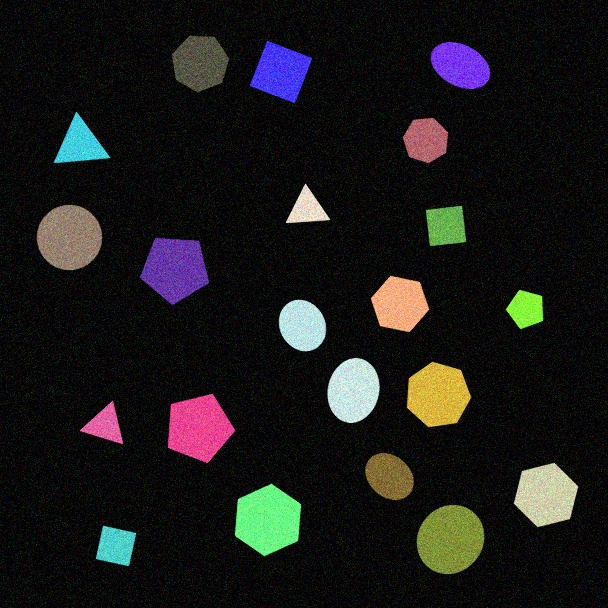Circulo: (416, 504, 485, 575), (36, 204, 103, 271), (278, 299, 327, 352)
Elipse: (327, 357, 380, 424), (430, 41, 491, 90), (364, 452, 415, 501)
Heptagono: (406, 361, 472, 428), (171, 35, 230, 93), (402, 117, 449, 164)
Hexagono: (234, 483, 302, 557), (513, 462, 579, 528), (370, 275, 430, 333)
Pentagono: (167, 393, 236, 464), (139, 237, 210, 306), (505, 289, 544, 330)
Quadrado: (249, 40, 313, 104), (95, 525, 137, 567), (425, 205, 467, 247)
Triangulo: (53, 112, 111, 164), (80, 400, 124, 445), (285, 184, 331, 224)
